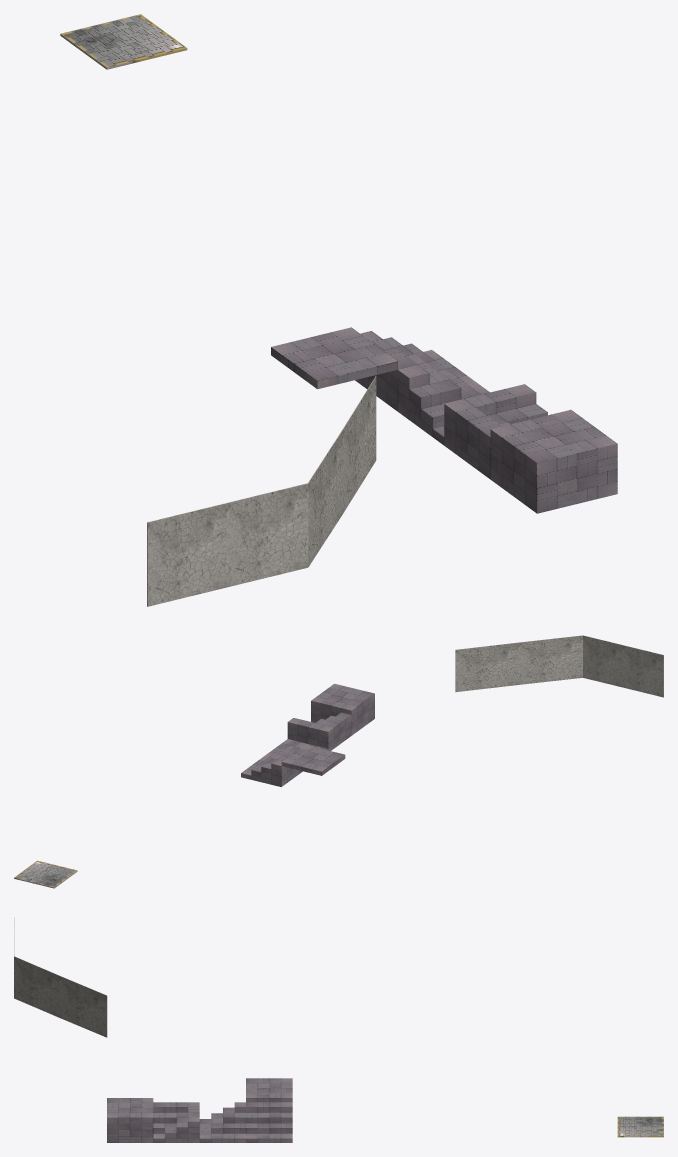
Rendered from tileset.dae.
3 renders of one model, top to bottom at view 1: azimuth 30°, elevation 25°; view 2: azimuth 150°, elevation 25°; view 3: azimuth 270°, elevation 25°, orthographic. The views are drawn at different scales.
Visible parts, largest first — view 1: floor.070, wall.103, wall.028, floor.058, floor.001, roof.010, floor.057, wall.030, wall.102, floor.056; view 2: wall.102, wall.030, floor.070, wall.103, wall.028, floor.058, floor.056, floor.001, roof.010; view 3: floor.070, wall.102, wall.030, floor.058, floor.056, floor.057, floor.001, roof.010.
Part boxes in pixels (x1,y1,x2,y2): floor.070: (490,409,617,513); wall.103: (147,503,227,606); wall.028: (228,483,308,586); floor.058: (444,384,547,479); floor.001: (271,327,397,389); roof.010: (60,14,187,69); floor.057: (398,365,489,445); wall.030: (308,430,342,566); wall.102: (342,376,376,513); floor.056: (355,331,477,411); wall.102: (455,642,519,692); wall.030: (519,635,582,684); floor.070: (311,683,374,735); wall.103: (623,645,663,697); wall.028: (583,635,623,687); floor.058: (287,712,351,750); floor.056: (241,746,302,786); floor.001: (281,745,345,775); roof.010: (14,860,77,888); floor.070: (107,1098,153,1142); wall.102: (60,976,107,1037); wall.030: (14,956,60,1017); floor.058: (153,1102,199,1142); floor.056: (246,1102,292,1142); floor.057: (199,1102,245,1142); floor.001: (246,1078,292,1102); roof.010: (617,1116,663,1137).
Size of what is drawn, in the model's own units: 32 by 56 by 8.4.
